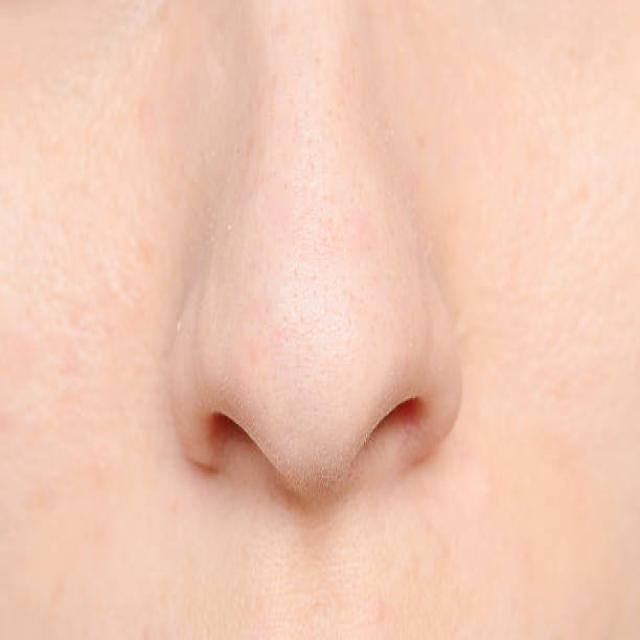Dry-Skin: (10, 47, 180, 640), (472, 50, 632, 616), (226, 46, 390, 427)
